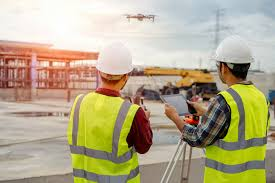hard hat: (95, 43, 134, 75), (212, 35, 255, 63)
high-vis: (68, 90, 141, 178), (203, 83, 269, 178)
